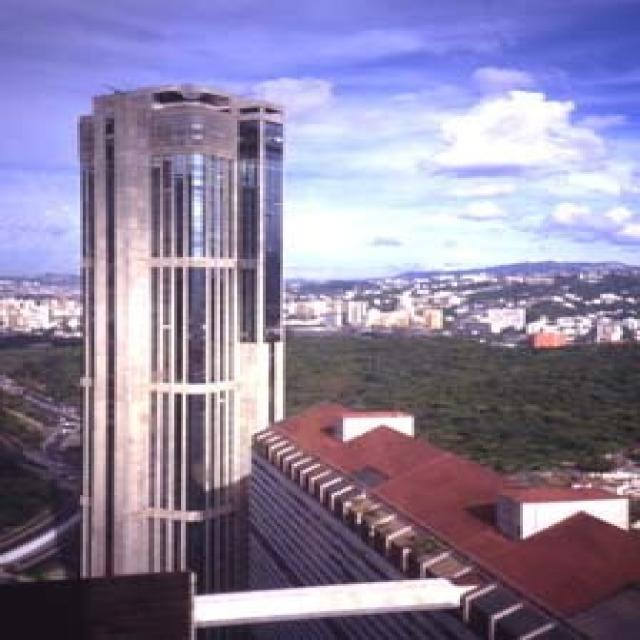building: (75, 82, 289, 597), (245, 397, 640, 640)
